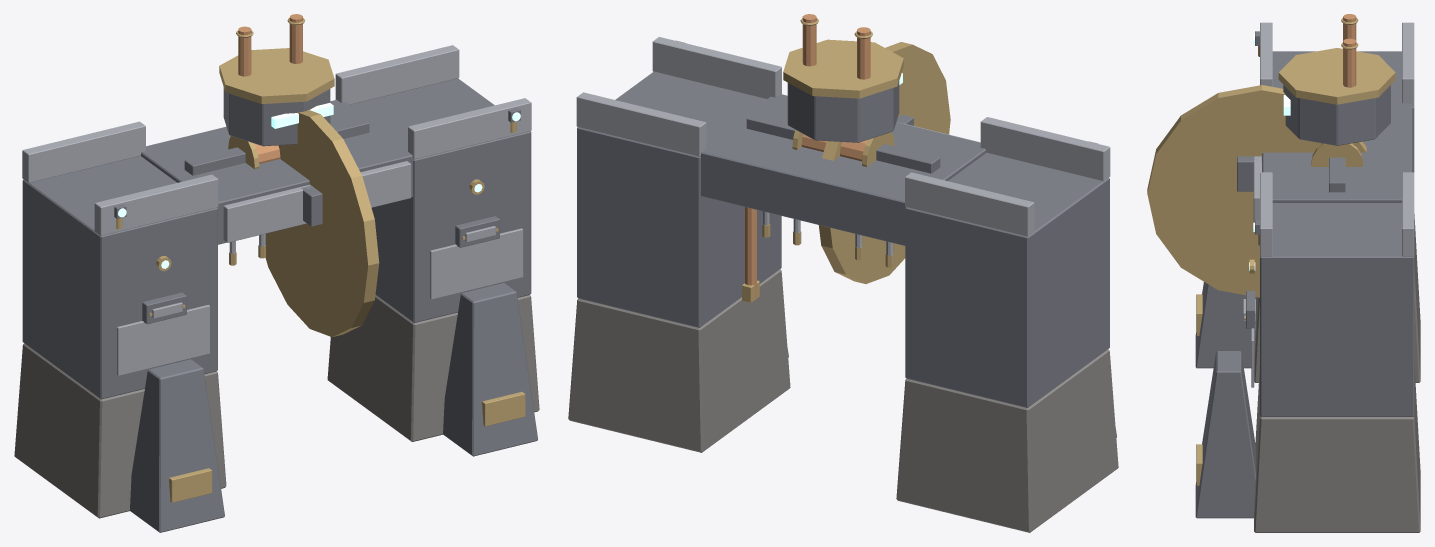
Rendered from gearforge_fortress_gate.glb.
3 views of the same model, side by side, from view 1: azimuth 30°, elevation 25°; view 2: azimuth 150°, elevation 25°; view 3: azimuth 270°, elevation 25° (orthographic). The views are drawn at different scales.
Parts seen in each view (by area): view 1: gearforge_fortress_gate_lod0; view 2: gearforge_fortress_gate_lod0; view 3: gearforge_fortress_gate_lod0.
Boxes of the visible parts, left/top/right/bottom form: gearforge_fortress_gate_lod0: left=14, top=14, right=539, bottom=532; gearforge_fortress_gate_lod0: left=568, top=14, right=1118, bottom=532; gearforge_fortress_gate_lod0: left=1147, top=14, right=1420, bottom=532.
Size of the model in its own units: 23.99 by 21.1 by 13.1.
